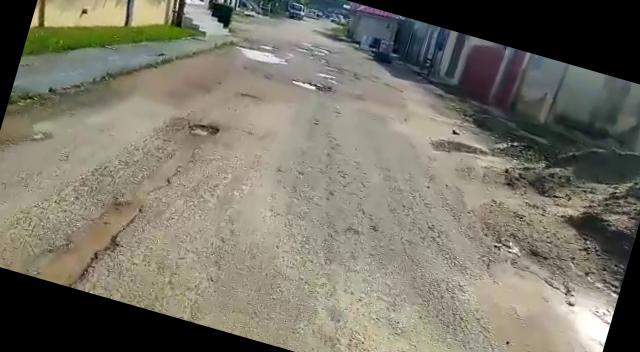pothole: (234, 42, 290, 70), (186, 116, 222, 140), (290, 75, 328, 95)
